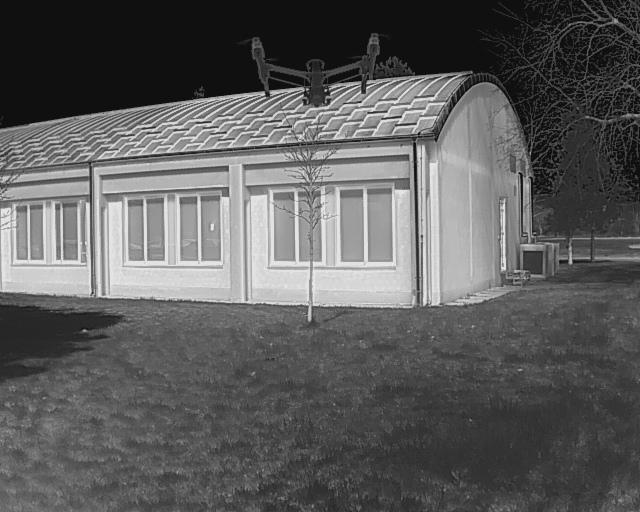drone: (218, 17, 408, 127)
